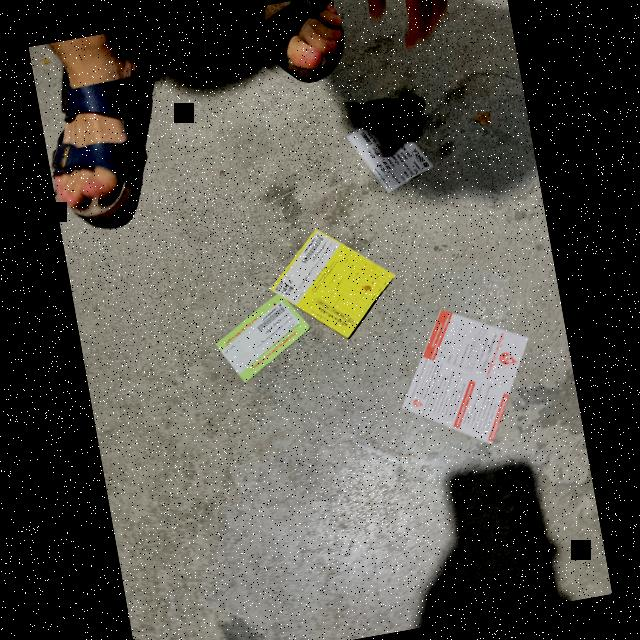scrap_paper: (383, 288, 550, 459), (267, 215, 405, 352), (338, 102, 445, 208), (205, 286, 318, 386)
